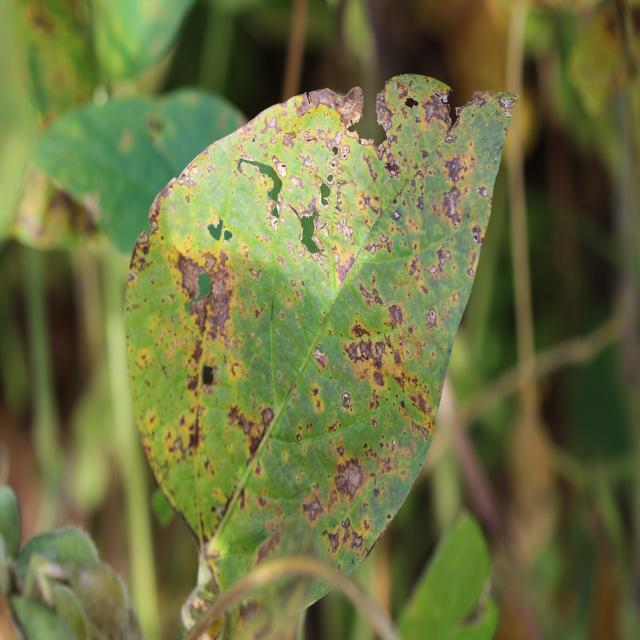Bacterial_Blight: (169, 234, 244, 345), (42, 181, 96, 239), (225, 399, 273, 459), (329, 509, 367, 556), (346, 335, 387, 373), (306, 376, 338, 423), (357, 265, 389, 310), (333, 458, 364, 504), (312, 122, 350, 158), (189, 357, 230, 387), (374, 84, 395, 133), (212, 484, 239, 521), (426, 245, 453, 280), (129, 230, 152, 270), (423, 93, 450, 126), (452, 96, 481, 125), (442, 186, 463, 224), (333, 213, 355, 249), (409, 387, 433, 417), (207, 217, 232, 244), (443, 155, 465, 184), (188, 408, 203, 449), (176, 163, 198, 189), (302, 494, 322, 522), (362, 153, 379, 185), (148, 193, 163, 228), (270, 153, 289, 178), (497, 97, 518, 116), (147, 114, 165, 135), (318, 182, 332, 208), (384, 157, 401, 177), (326, 529, 340, 553), (136, 348, 151, 367), (312, 346, 327, 365), (425, 308, 438, 327), (281, 132, 296, 148), (303, 129, 318, 144), (471, 224, 482, 244), (404, 97, 419, 110), (302, 156, 314, 169), (477, 186, 488, 198), (173, 438, 182, 452), (416, 196, 424, 210), (271, 217, 279, 231), (393, 209, 401, 220), (371, 418, 378, 428), (467, 267, 474, 276), (391, 438, 397, 448), (296, 433, 302, 442), (371, 245, 377, 254)
Soybean: (125, 75, 517, 627)
